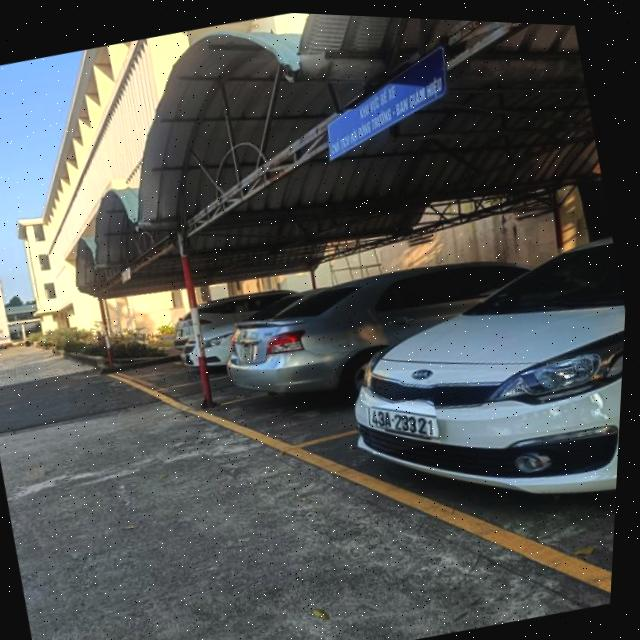car: (299, 212, 630, 554), (203, 220, 577, 430)
plate: (351, 384, 448, 460)
